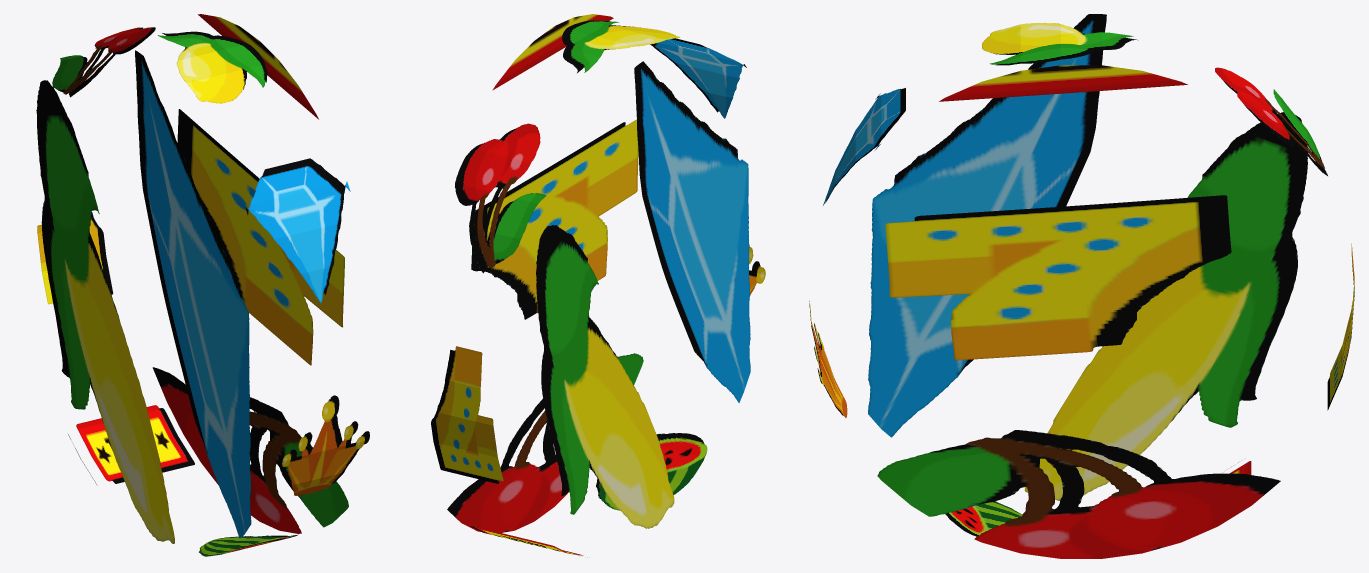
File: reel_black.fbx
3 renders of one model, left to right at view 1: azimuth 30°, elevation 25°; view 2: azimuth 150°, elevation 25°; view 3: azimuth 270°, elevation 25°, orthographic. The views are drawn at different scales.
Visible parts, largest first — view 1: Cylinder; view 2: Cylinder; view 3: Cylinder.
Part boxes in pixels (left/top/right/bottom): Cylinder: left=36, top=14, right=369, bottom=556; Cylinder: left=431, top=14, right=765, bottom=555; Cylinder: left=809, top=14, right=1354, bottom=558.
Size of the model in its own units: 20 by 89.75 by 90.
1 material, 1 textured.
